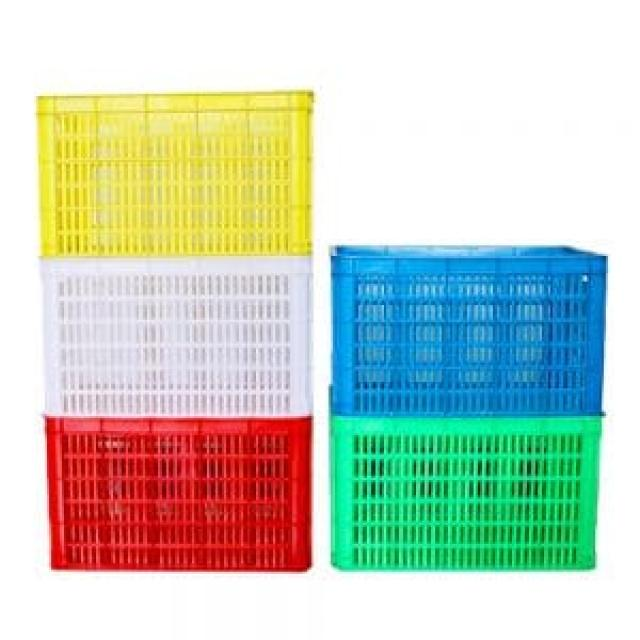basket: (39, 92, 314, 573), (329, 241, 608, 574)
